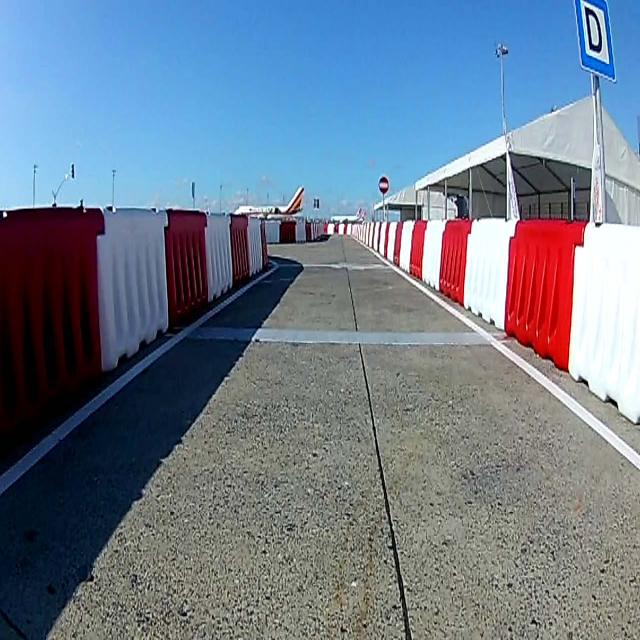durak: (574, 1, 616, 83)
girisyok: (376, 175, 389, 195)
